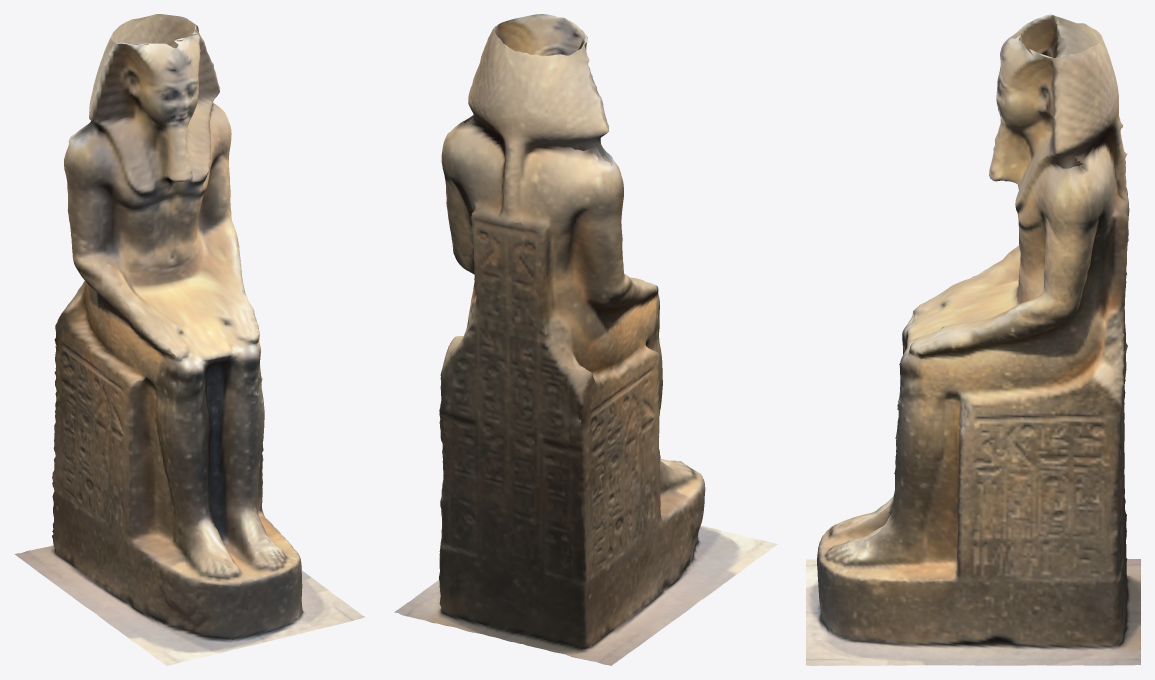
Rendered from ramses_ii_egyptian_statue_-_louvre.glb.
3 views of the same model, side by side, from view 1: azimuth 30°, elevation 25°; view 2: azimuth 150°, elevation 25°; view 3: azimuth 270°, elevation 25° (orthographic). The views are drawn at different scales.
Visible parts, largest first — view 1: Object_2; view 2: Object_2; view 3: Object_2.
Boxes of the visible parts, bbox=[...] form: Object_2: bbox=[14, 14, 365, 665]; Object_2: bbox=[394, 14, 777, 665]; Object_2: bbox=[806, 14, 1140, 665].
Bounding box in the file's own units: 1.03 × 2.63 × 1.37.
Materials: 1 (1 with a texture image).
